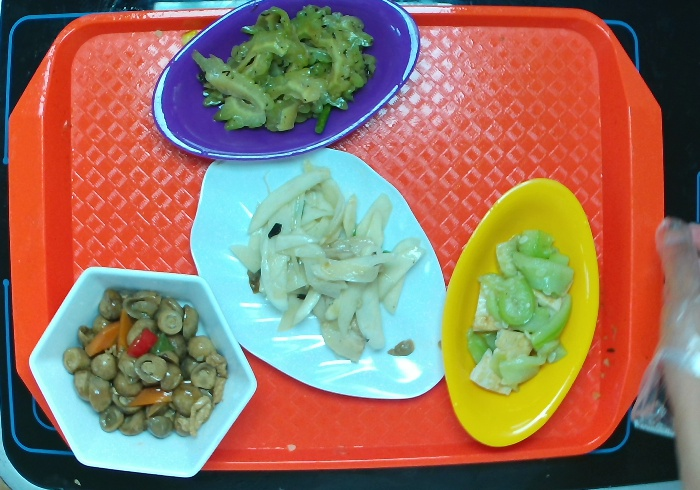RJxy-Bai_Ye_Pan: (187, 145, 449, 405)
RJxy-Fen_Hong_Tuo_Yuan: (148, 1, 425, 164)
RJxy-Huang_Se_Tuo_Yuan: (439, 177, 604, 452)
RJxy-Liu_Jiao_Wan: (25, 262, 261, 481)
